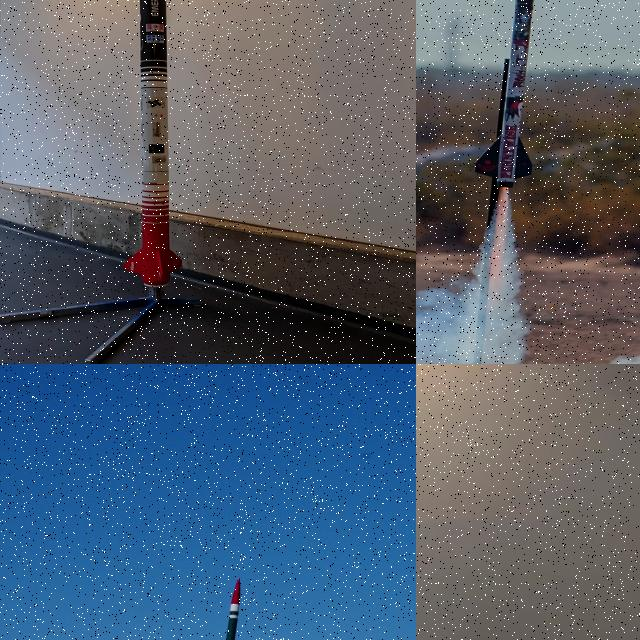Rocket: (124, 0, 182, 288), (475, 0, 540, 188), (212, 577, 241, 640)
